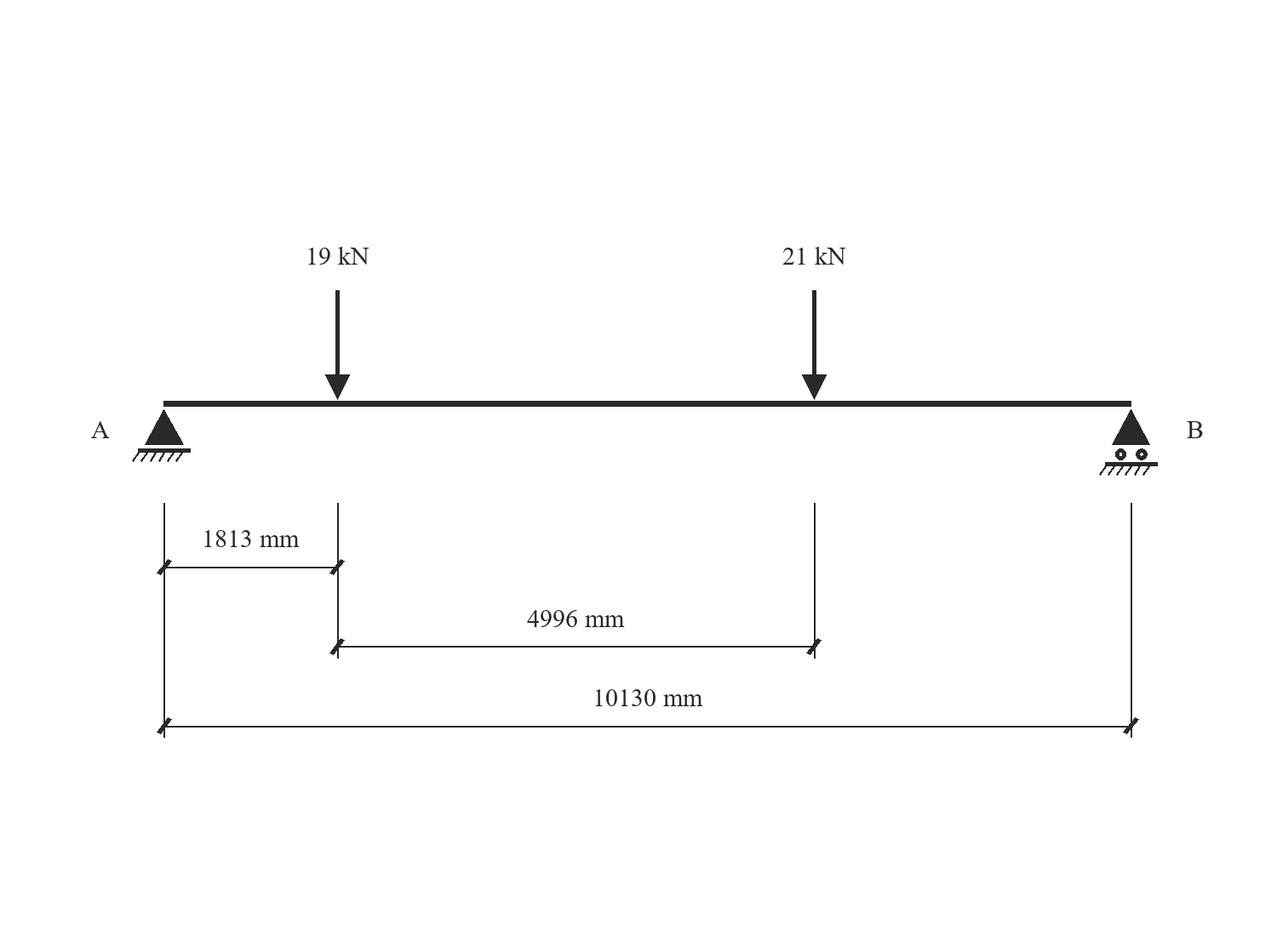pin_support: (132, 409, 191, 462)
point_load: (325, 290, 350, 400), (802, 290, 827, 400)
roller_support: (1099, 409, 1158, 476)
